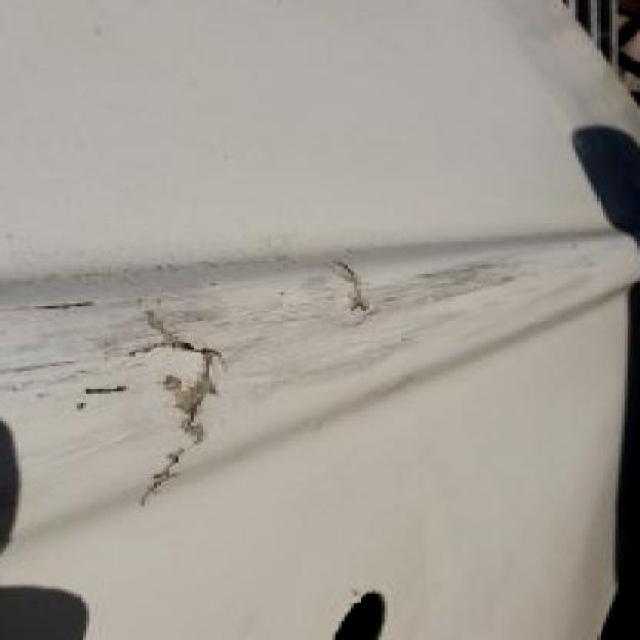crack: (147, 307, 220, 510), (335, 258, 368, 306)
